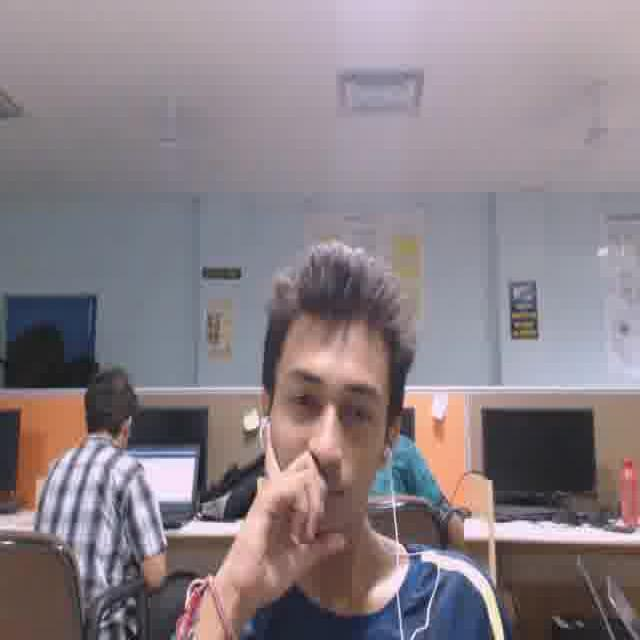Boredom: (259, 320, 379, 533)
